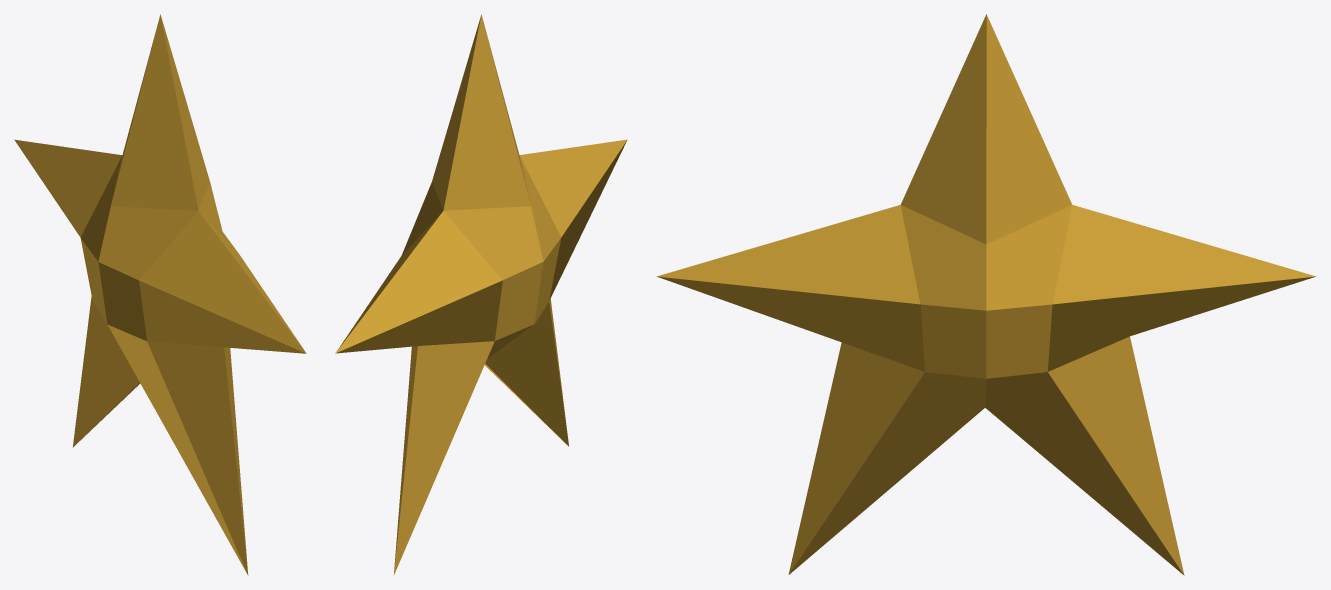
The model's file is star_02.fbx.
3 renders of one model, left to right at view 1: azimuth 30°, elevation 25°; view 2: azimuth 150°, elevation 25°; view 3: azimuth 270°, elevation 25°, orthographic. The views are drawn at different scales.
Visible parts, largest first — view 1: star_02; view 2: star_02; view 3: star_02.
Part boxes in pixels (x1=…): star_02: x1=14, y1=14, x2=306, y2=575; star_02: x1=335, y1=14, x2=627, y2=575; star_02: x1=657, y1=14, x2=1315, y2=575.
Size of the model in its own units: 245 by 939 by 1000.
